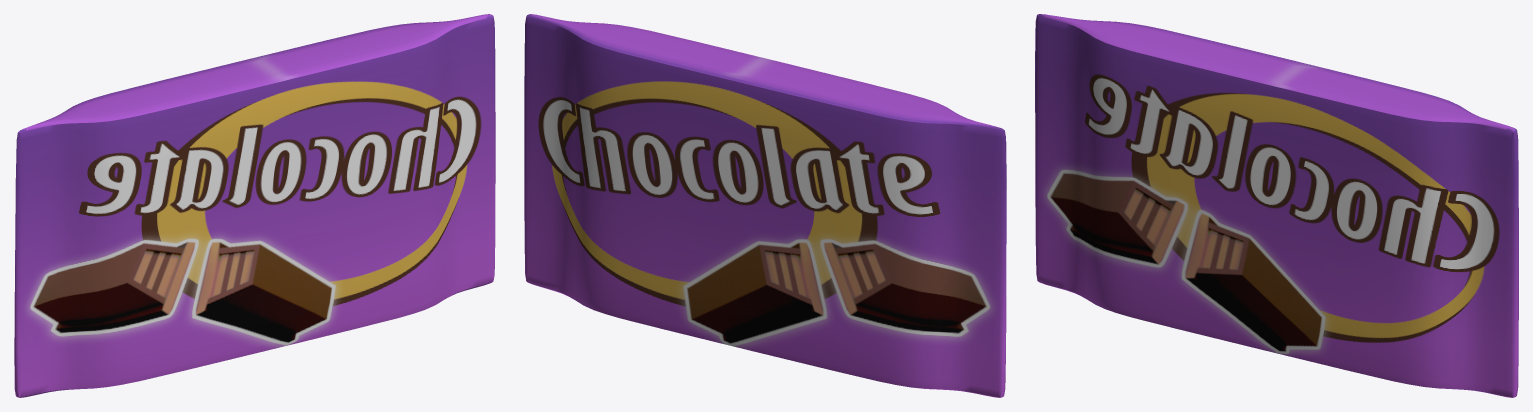
Rendered from Chocolate 2.fbx.
3 views of the same model, side by side, from view 1: azimuth 30°, elevation 25°; view 2: azimuth 150°, elevation 25°; view 3: azimuth 330°, elevation 25° (orthographic).
Visible parts, largest first — view 1: Chocolate 2; view 2: Chocolate 2; view 3: Chocolate 2.
Part boxes in pixels (x1,y1,x2,y2): Chocolate 2: (14, 14, 495, 397); Chocolate 2: (524, 14, 1006, 397); Chocolate 2: (1035, 14, 1518, 397).
Bounding box in the file's own units: 21.83 × 11.74 × 2.66.
